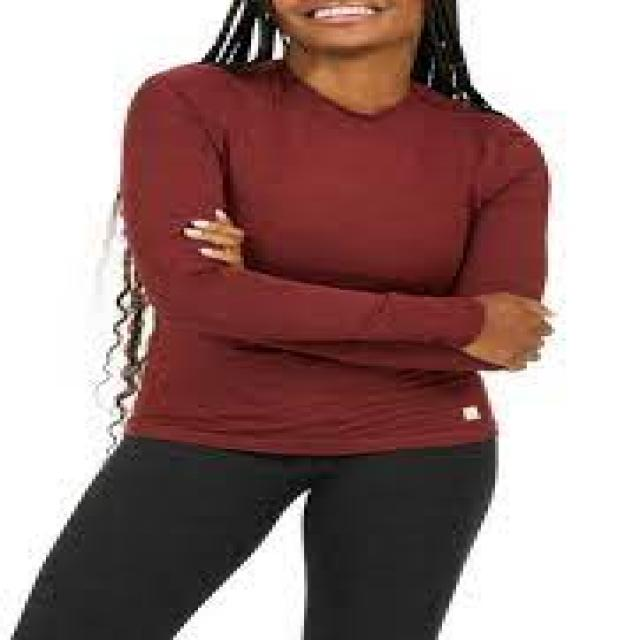plain: (115, 52, 560, 443)
